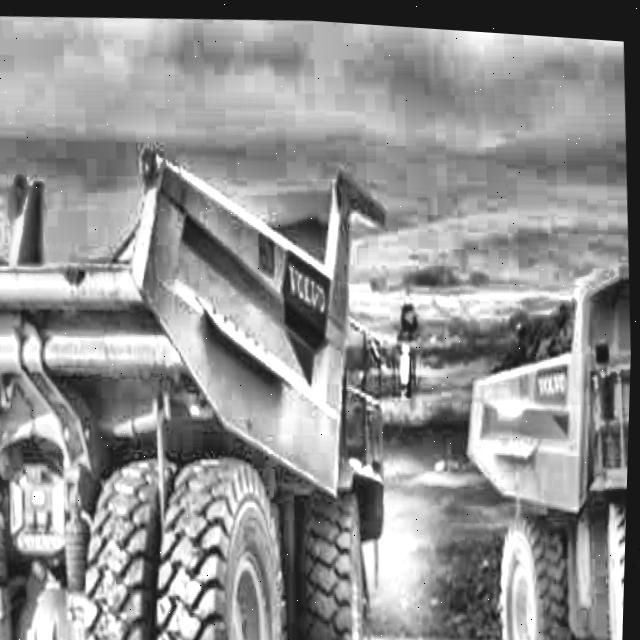dump_truck: (0, 76, 424, 640), (442, 205, 636, 640)
